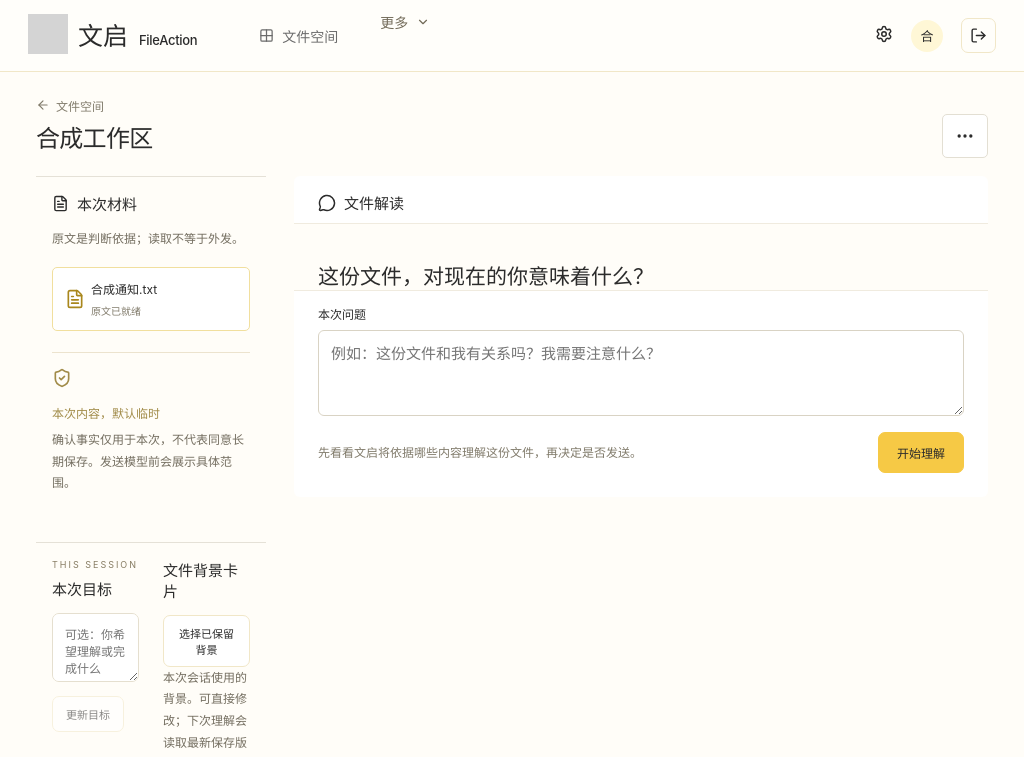
it: 取消运行只发一次取消请求并保留问题，失败重试必须重新预览
This screenshot has width=1024, height=757.
In the text box labelled "本次问题": (641, 373) [318,330,964,416], type "合成运行问题"
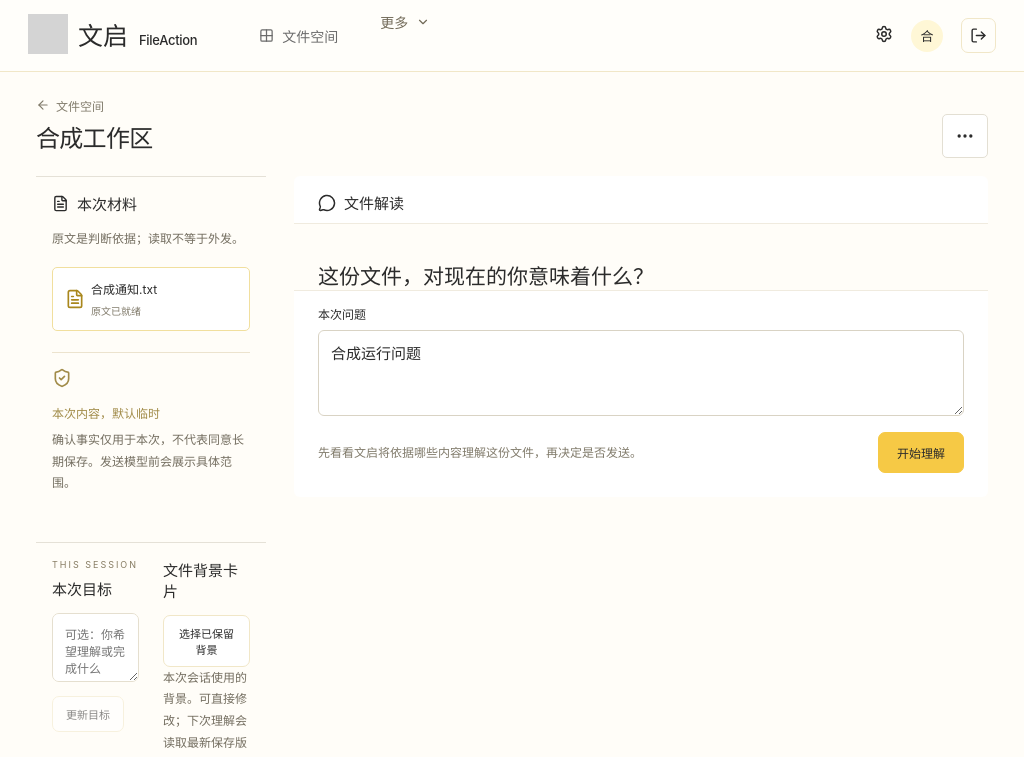
Click the button with aria-label "预览外发内容": (921, 453) [878,432,964,473]
(page scrolled)
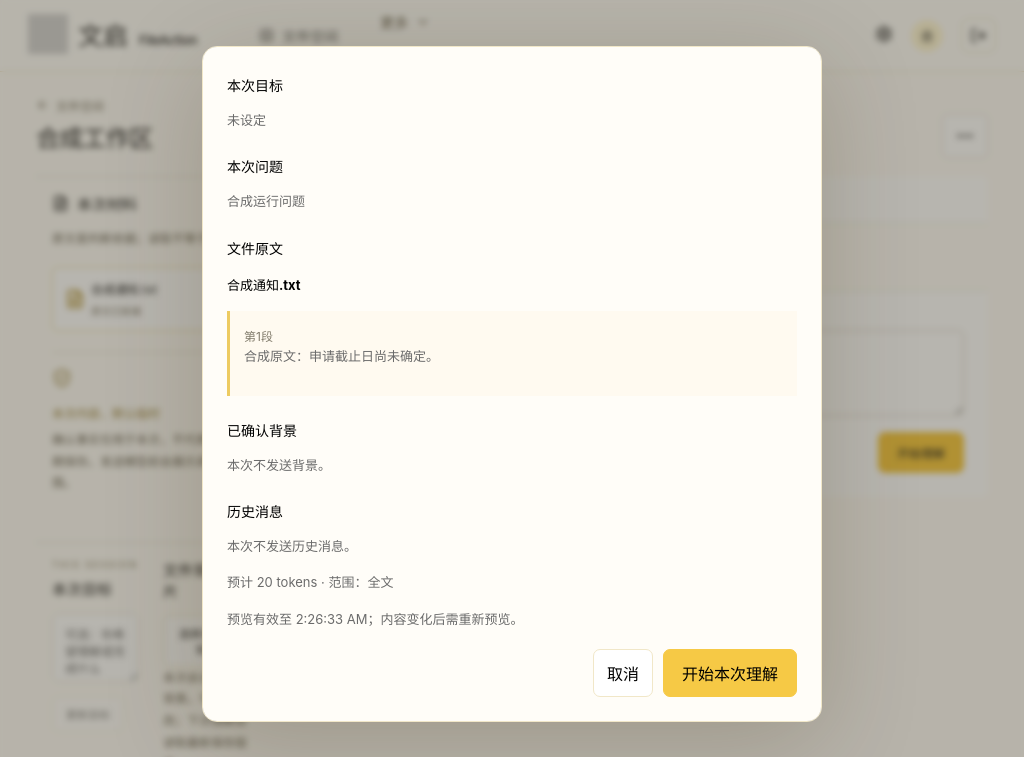
Click the button "开始本次理解": (730, 673) [663,649,797,697]
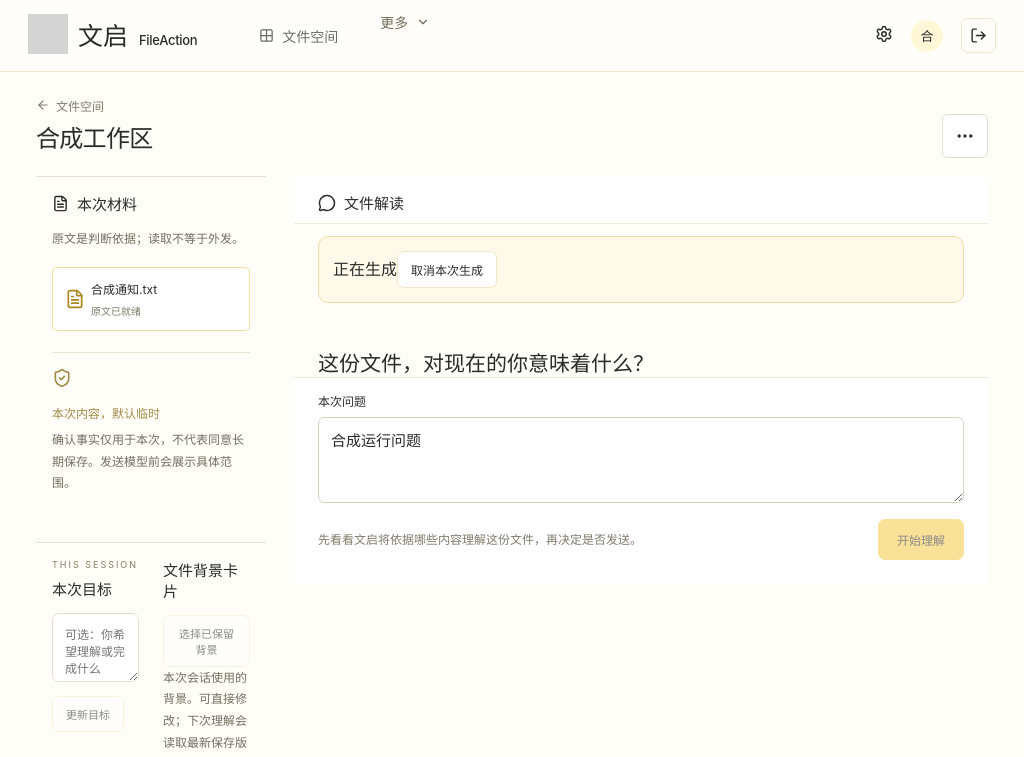
Click the button "取消本次生成": (447, 270) [397,251,497,288]
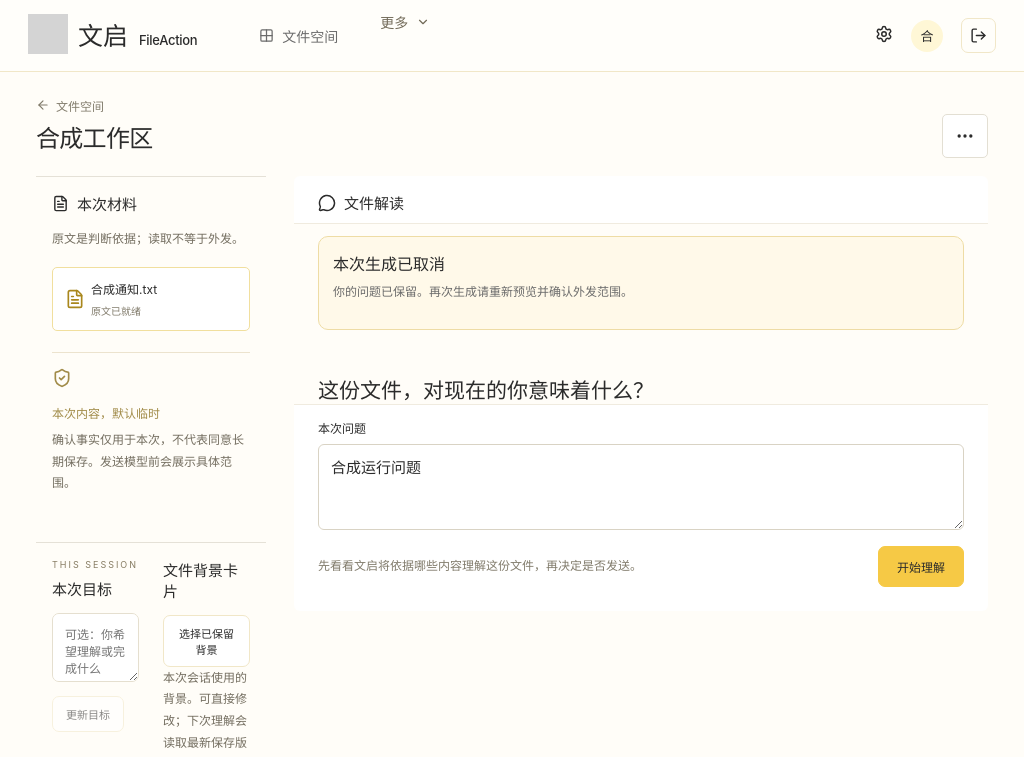
Expected: the button "开始本次理解" is not shown
Expected: the text "本次生成已取消" is shown, [333,254,445,274]
